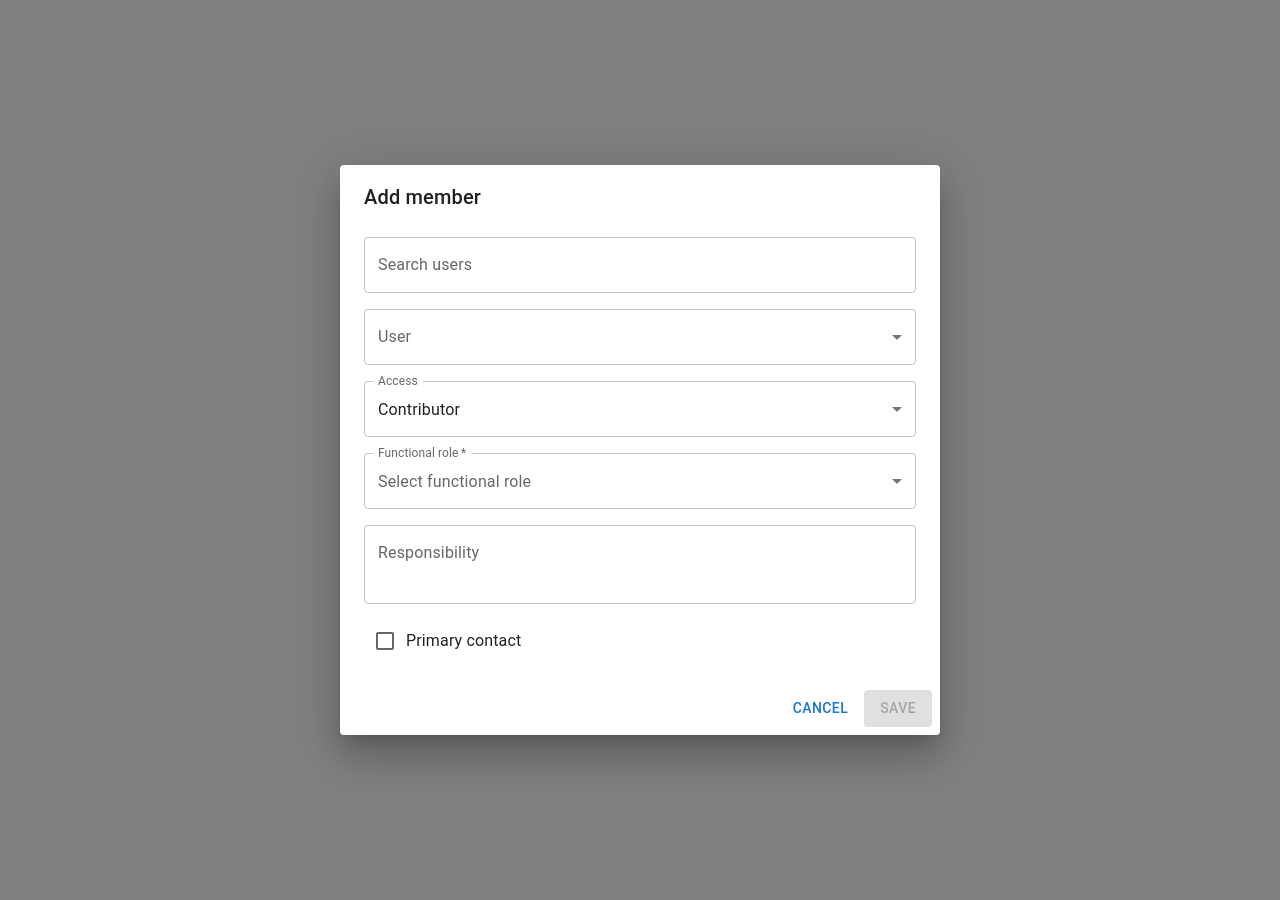
TeamMemberDialog functional role select › keeps access role independent from functional role changes
Click the dropdown named "access": (419, 409) top-left (378, 400), bottom-right (460, 419)
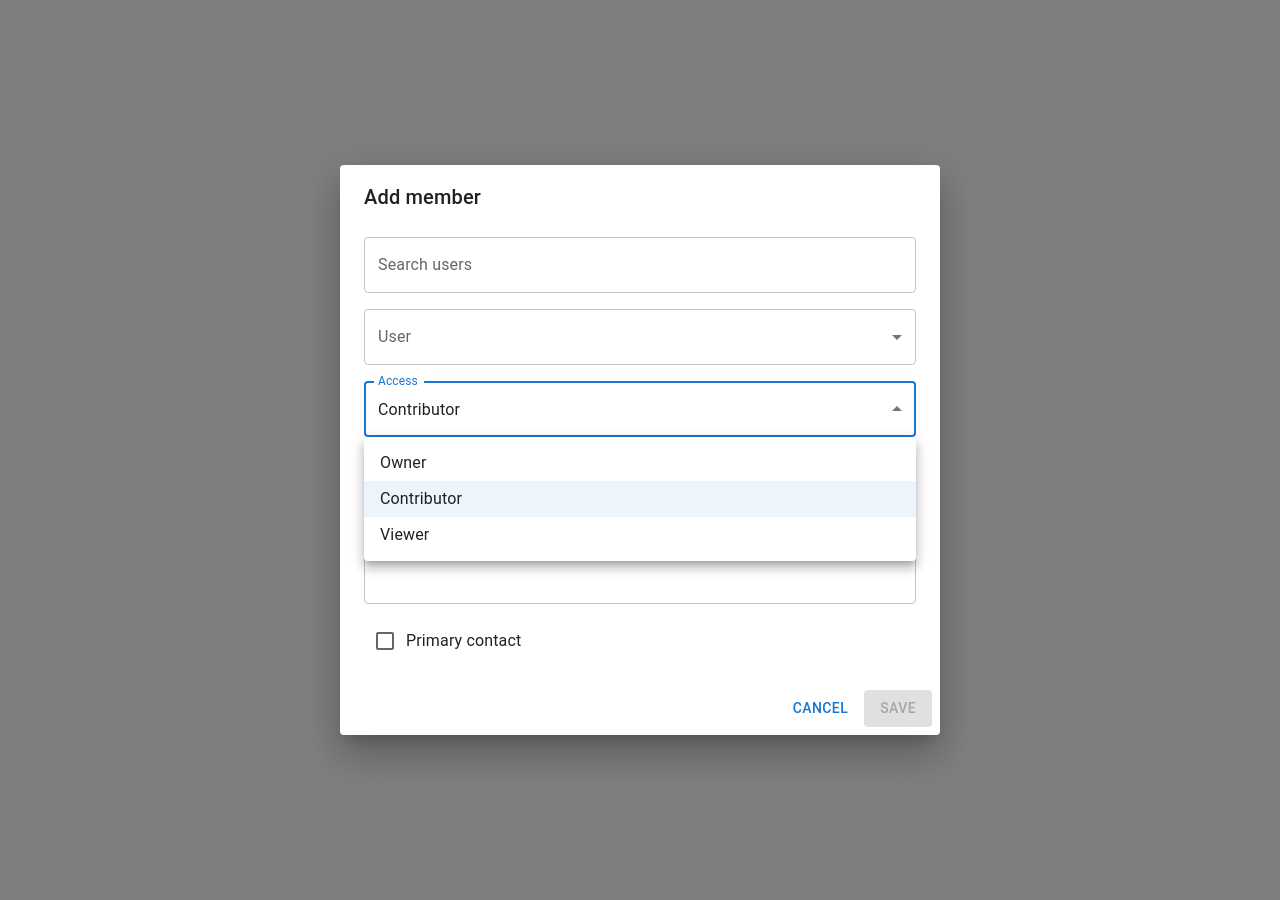
Click the option "Viewer": (405, 534) top-left (380, 525), bottom-right (429, 544)
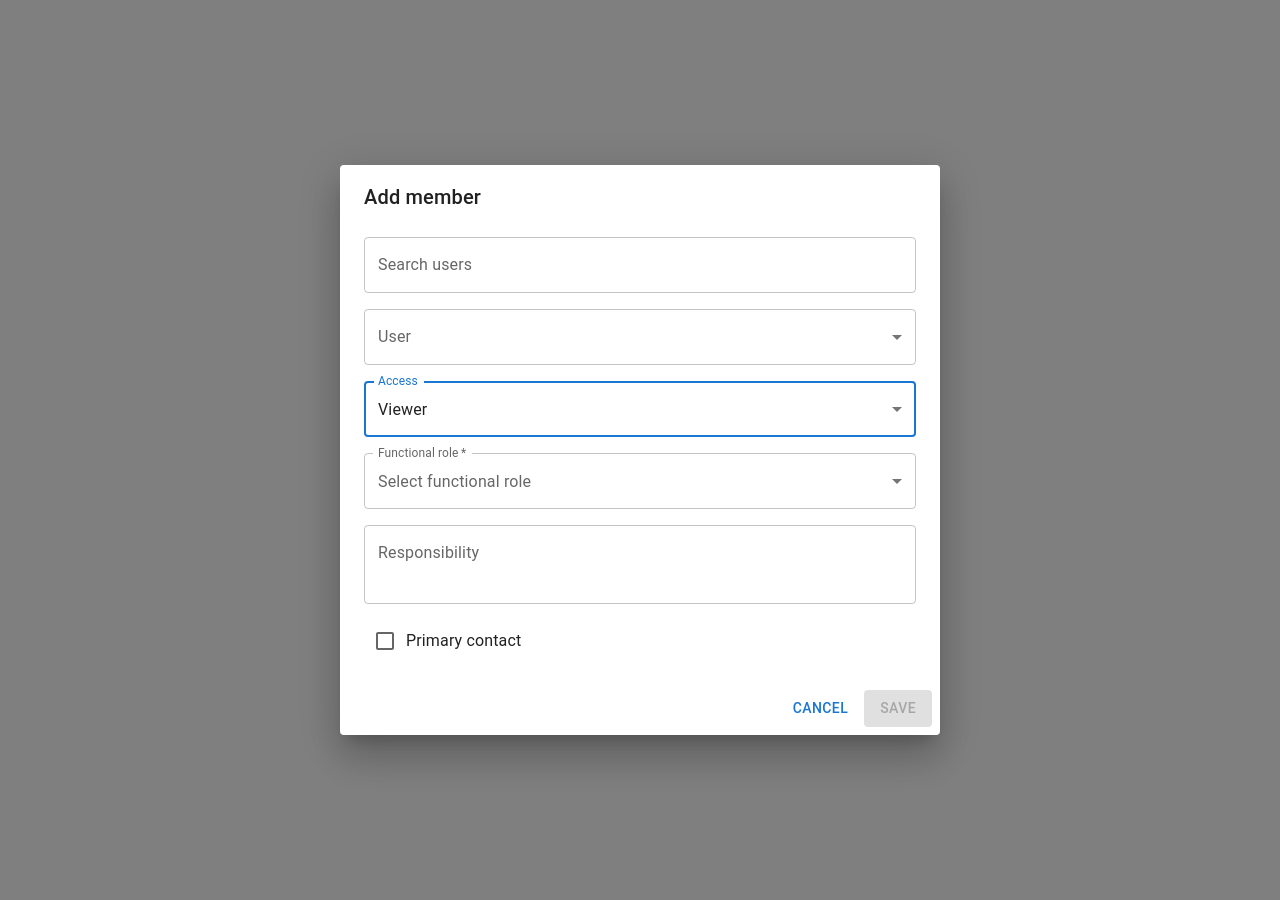
Check: the dropdown named "access" reads "Viewer", box top-left (378, 400), bottom-right (427, 419)
Click the dropdown labelled "Select functional role": (455, 481) top-left (378, 472), bottom-right (531, 491)
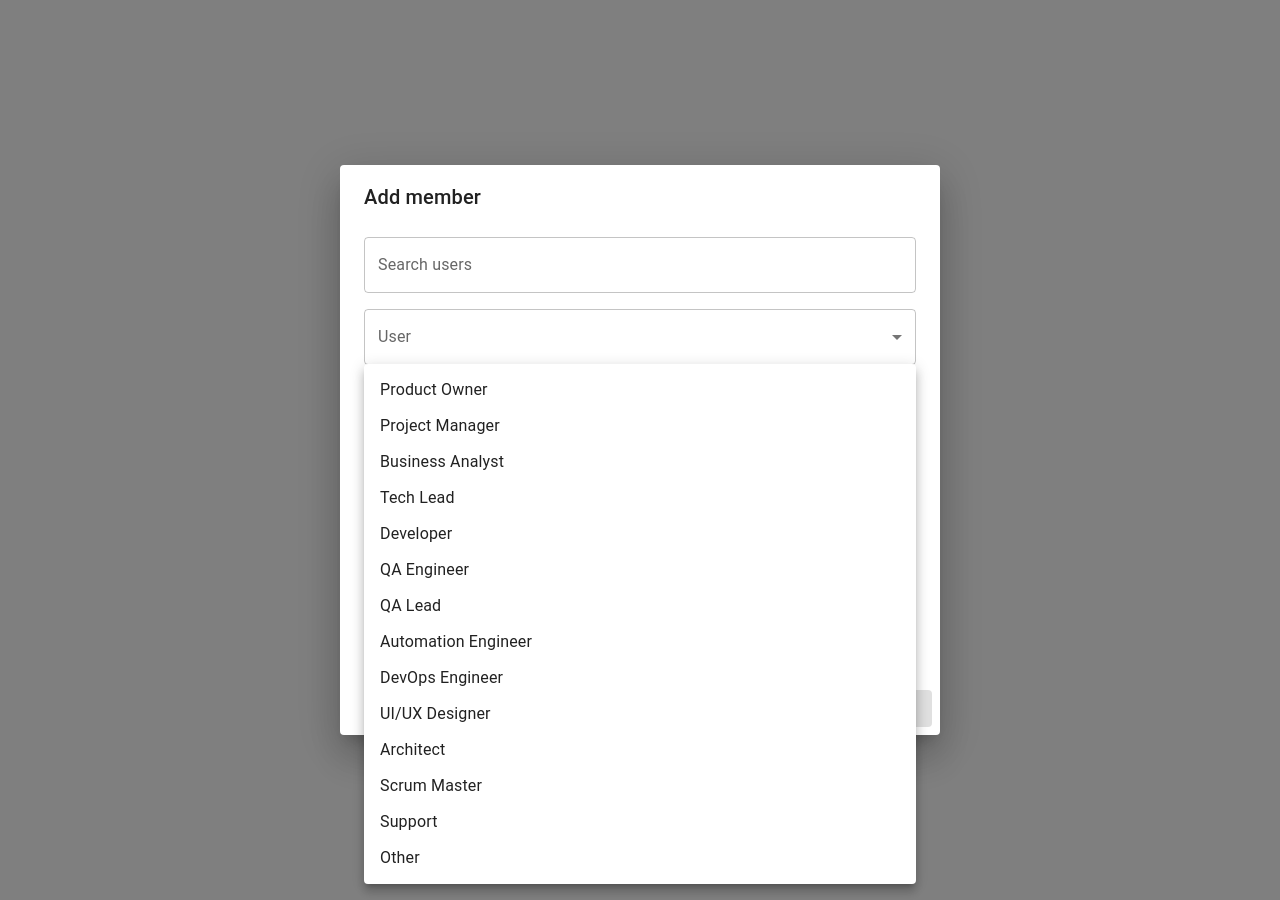
Click the option "Business Analyst": (442, 462) top-left (380, 452), bottom-right (504, 471)
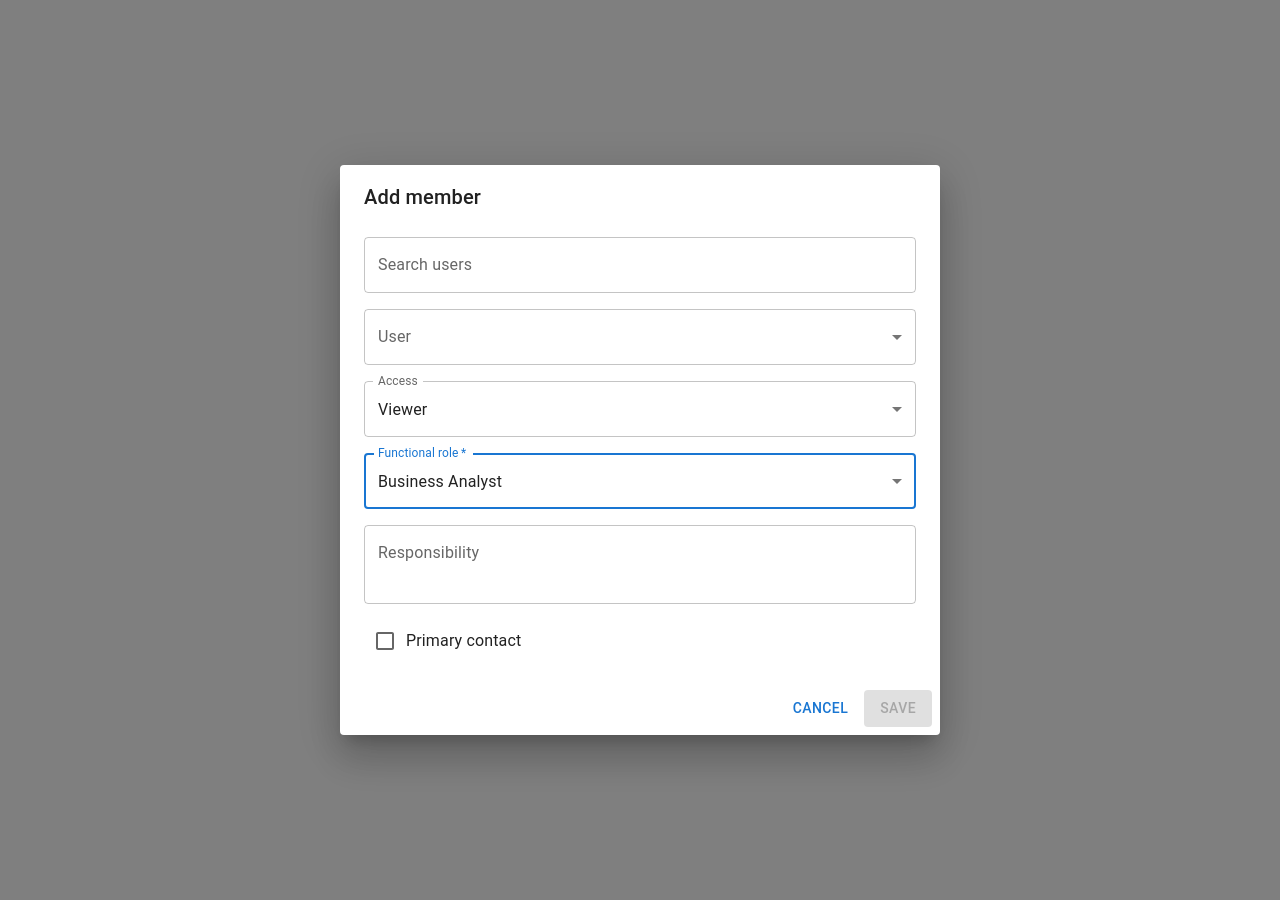
Check: the dropdown named "access" reads "Viewer", box top-left (378, 400), bottom-right (427, 419)
Check: the dropdown named "functional role" reads "Business Analyst", box top-left (378, 472), bottom-right (502, 491)
